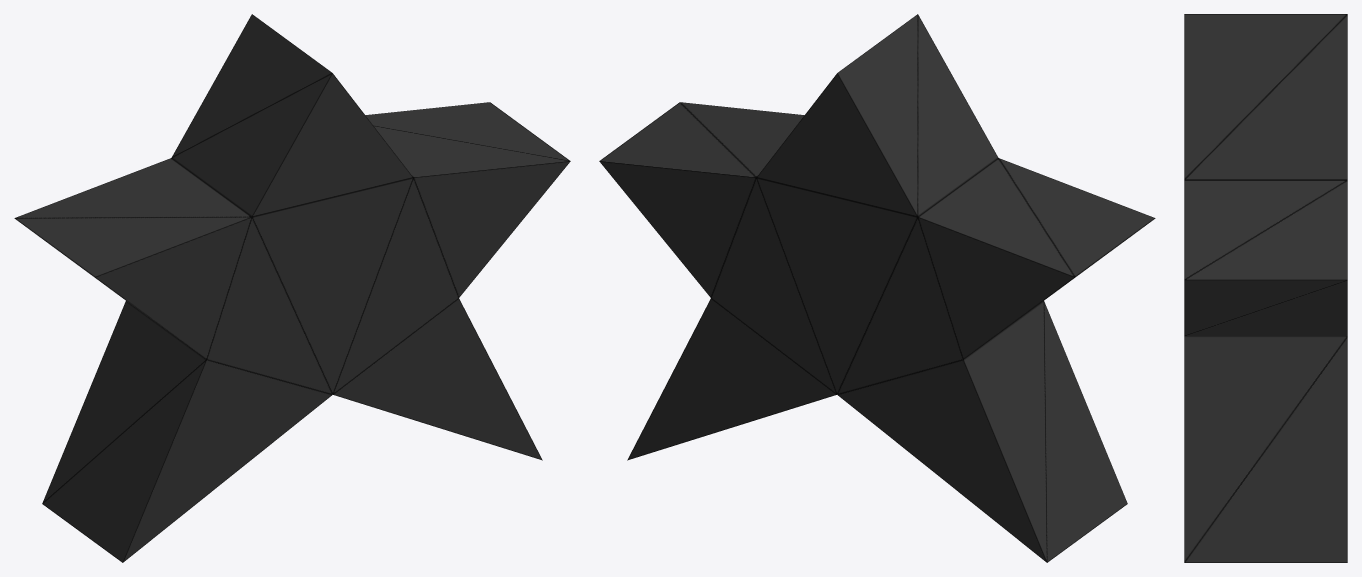
Rendered from Star.fbx.
3 views of the same model, side by side, from view 1: azimuth 30°, elevation 25°; view 2: azimuth 150°, elevation 25°; view 3: azimuth 270°, elevation 25° (orthographic).
Parts seen in each view (by area): view 1: Cube; view 2: Cube; view 3: Cube.
Part boxes in pixels (x1,y1,x2,y2): Cube: [14, 14, 570, 562]; Cube: [599, 14, 1155, 562]; Cube: [1184, 14, 1347, 562].
Bounding box in the file's own units: 341 × 300 × 100.
